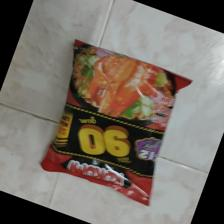Kokomi: (40, 39, 195, 207)
